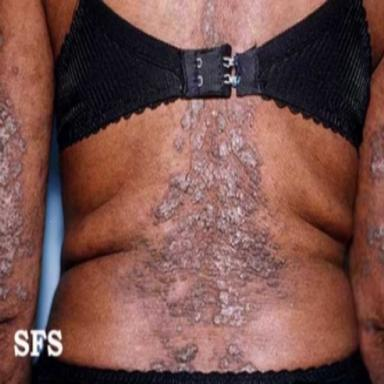Darier_s-Disease: (111, 97, 298, 376), (0, 76, 36, 314), (355, 120, 383, 283), (193, 0, 237, 47)
